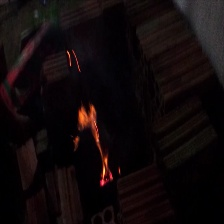fire: (71, 100, 117, 183)
